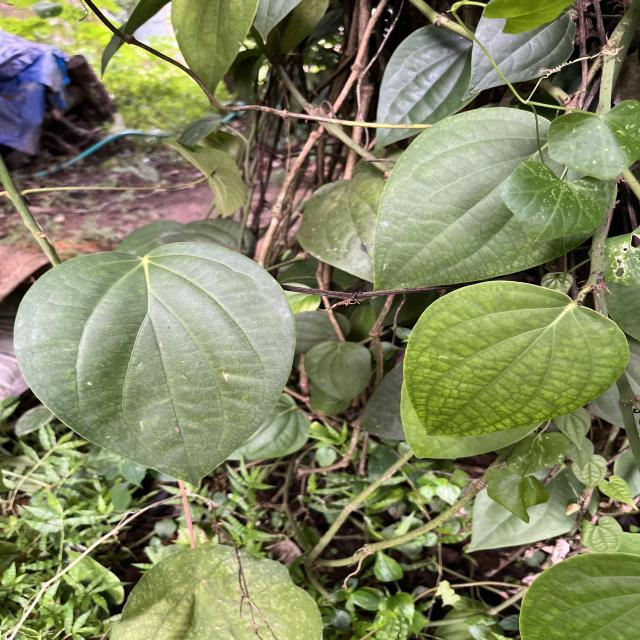Piper nigrum: (11, 240, 298, 491), (399, 279, 631, 439)
